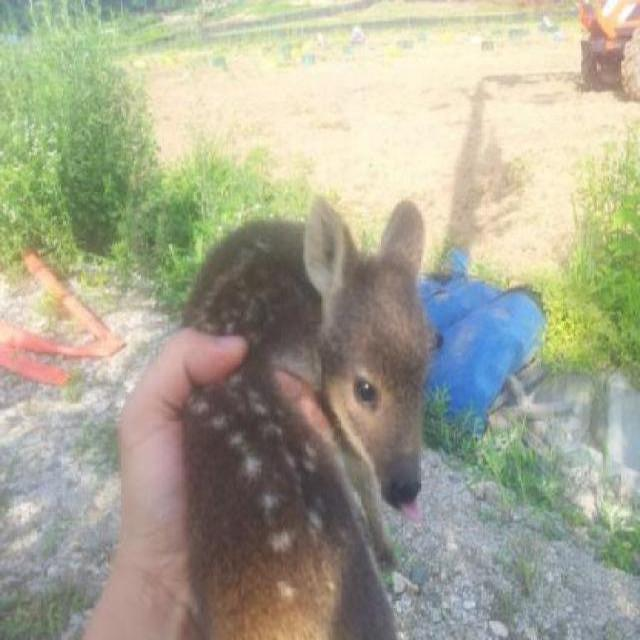deer: (157, 178, 466, 638)
